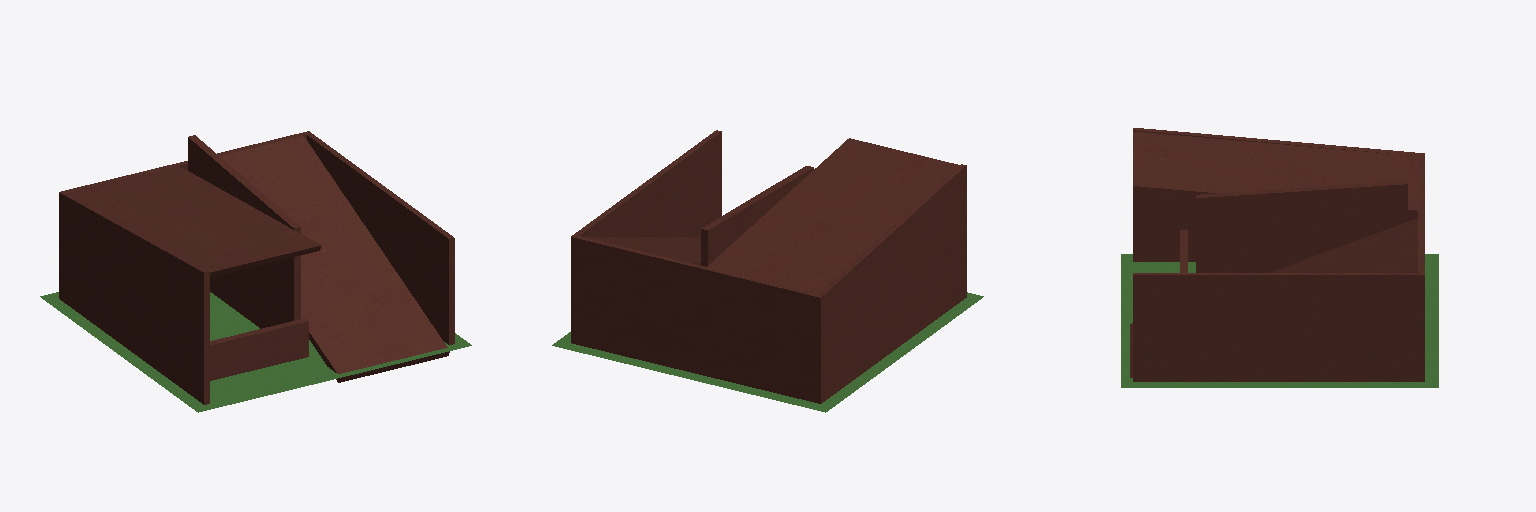
3 renders of one model, left to right at view 1: azimuth 30°, elevation 25°; view 2: azimuth 150°, elevation 25°; view 3: azimuth 270°, elevation 25°, orthographic.
Parts seen in each view (by area): view 1: Cube.003_Cube.008, Plane.005_Plane.012; view 2: Cube.003_Cube.008, Plane.005_Plane.012; view 3: Cube.003_Cube.008, Plane.005_Plane.012.
Boxes of the visible parts, x1=… form: Cube.003_Cube.008: x1=59, y1=131, x2=454, y2=404; Plane.005_Plane.012: x1=40, y1=292, x2=471, y2=412; Cube.003_Cube.008: x1=571, y1=130, x2=966, y2=403; Plane.005_Plane.012: x1=552, y1=292, x2=983, y2=412; Cube.003_Cube.008: x1=1130, y1=128, x2=1424, y2=381; Plane.005_Plane.012: x1=1121, y1=254, x2=1438, y2=387.
Bounding box in the file's own units: 20 × 10.21 × 20.
2 materials, 2 textured.